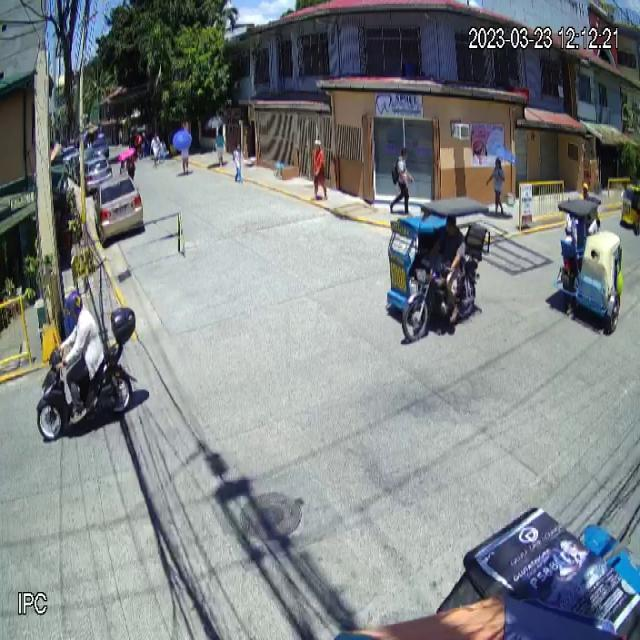Motorcycle: (36, 307, 138, 442)
Tricycle: (386, 193, 491, 343), (556, 200, 623, 331)
